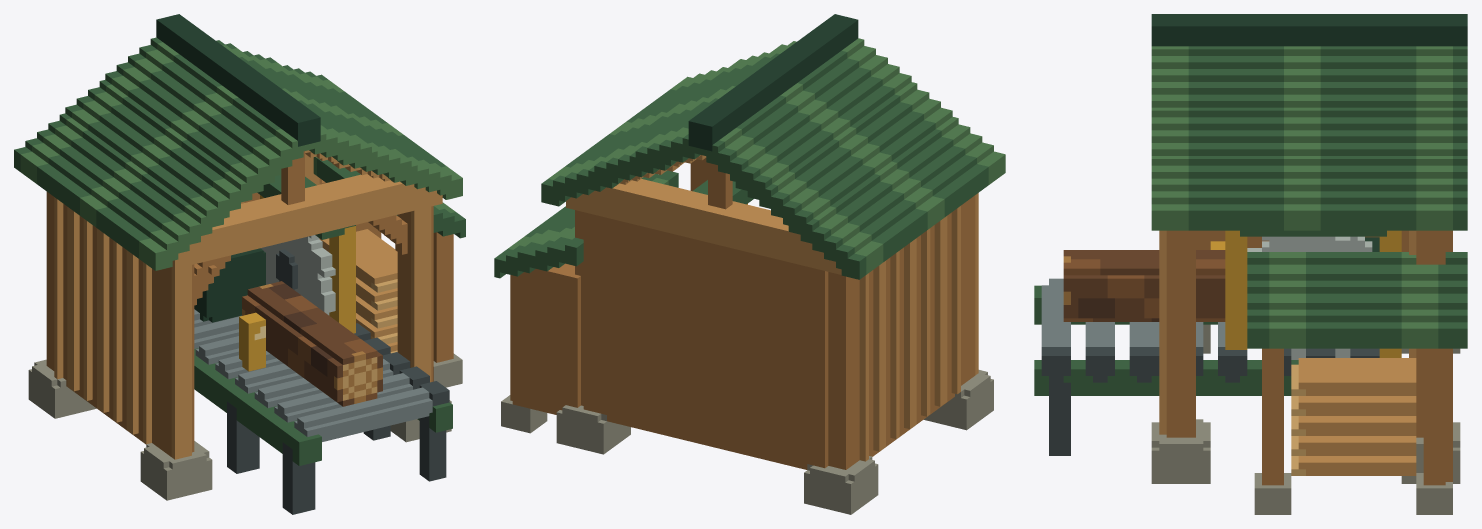
File: sawmill.glb
3 views of the same model, side by side, from view 1: azimuth 30°, elevation 25°; view 2: azimuth 150°, elevation 25°; view 3: azimuth 270°, elevation 25° (orthographic). The views are drawn at different scales.
Parts seen in each view (by area): view 1: sawmill; view 2: sawmill; view 3: sawmill.
Part boxes in pixels (x1,y1,x2,y2): sawmill: (14,14,465,514); sawmill: (494,14,1005,514); sawmill: (1034,14,1467,514).
Bounding box in the file's own units: 6.2 × 5.8 × 5.9.
